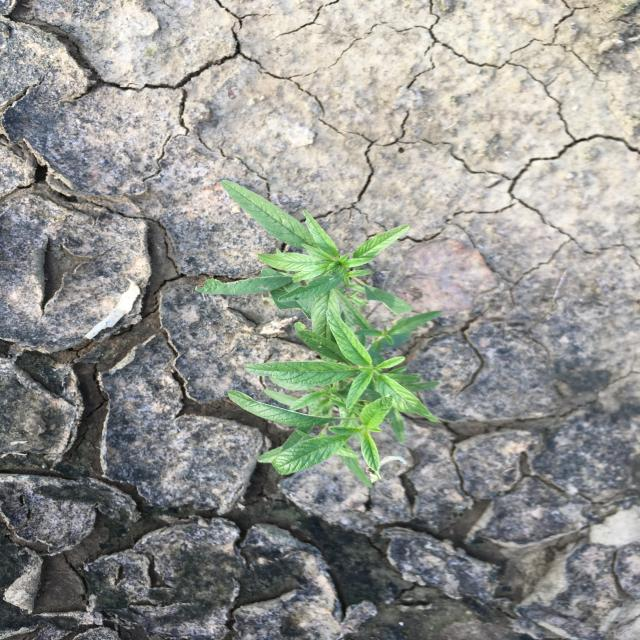Waterhemp: (192, 177, 446, 488)
